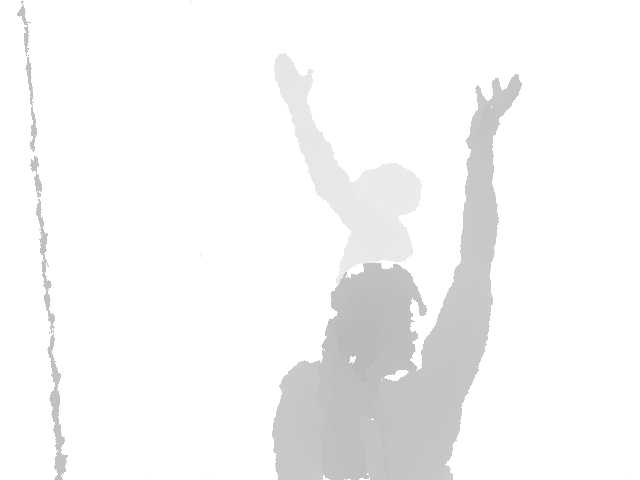hand: (466, 73, 523, 139), (273, 53, 314, 100)
head: (323, 262, 421, 379), (348, 162, 423, 218)
person: (271, 74, 523, 480), (271, 53, 423, 284)
